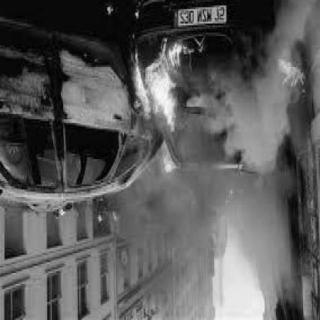Fire: (131, 39, 195, 129), (274, 52, 303, 96), (152, 146, 178, 186)
Smoke: (220, 90, 277, 181), (168, 180, 252, 238), (126, 198, 160, 236)
